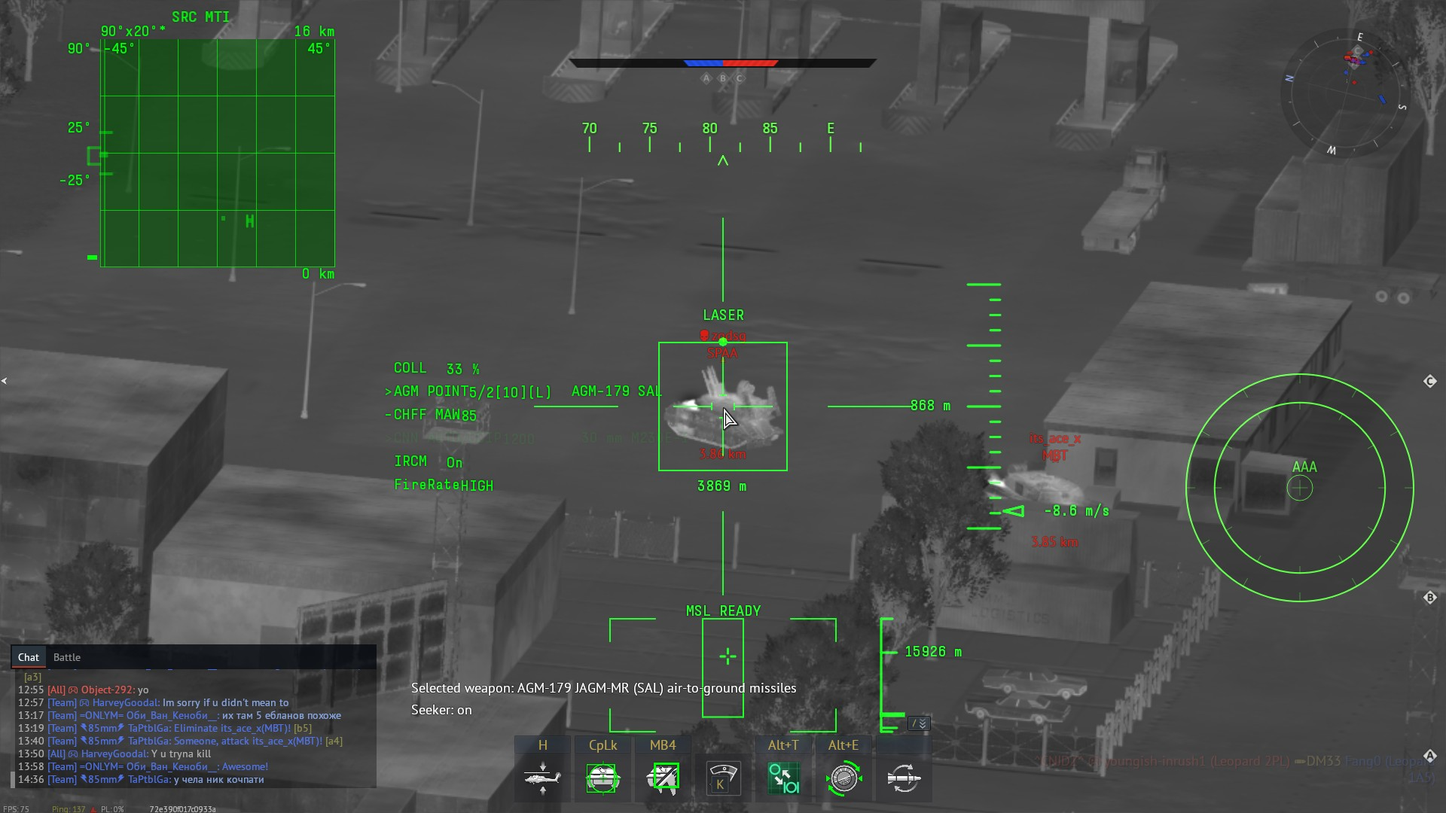spaa_zsu-23: (665, 367, 785, 449)
